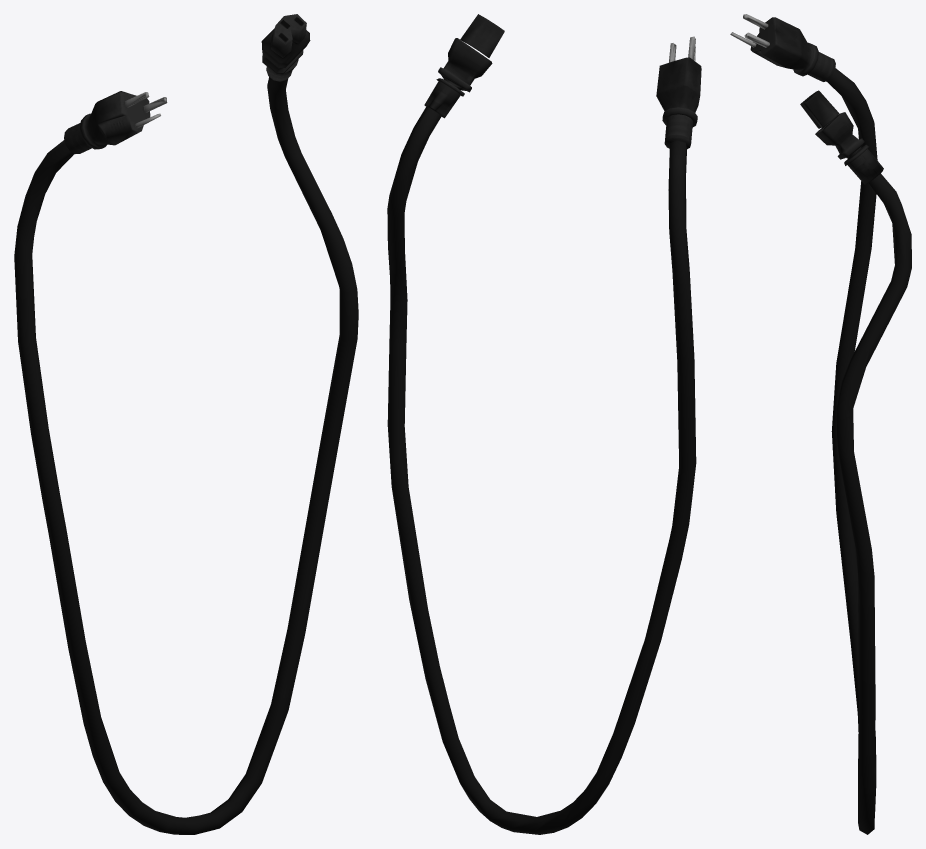
Rendered from wire.worldmodel.glb.
The picture shows the model from 3 angles, left to right: view 1: azimuth 30°, elevation 25°; view 2: azimuth 150°, elevation 25°; view 3: azimuth 270°, elevation 25°; orthographic projection. The views are drawn at different scales.
Visible parts, largest first — view 1: wm_wire_LOD0; view 2: wm_wire_LOD0; view 3: wm_wire_LOD0.
Boxes of the visible parts, x1,y1,x2,y2 form: wm_wire_LOD0: (14,14,358,834); wm_wire_LOD0: (387,14,701,834); wm_wire_LOD0: (730,14,911,834).
Size of the model in its own units: 0.3548 by 0.849 by 0.183.
Materials: 1 (1 with a texture image).
